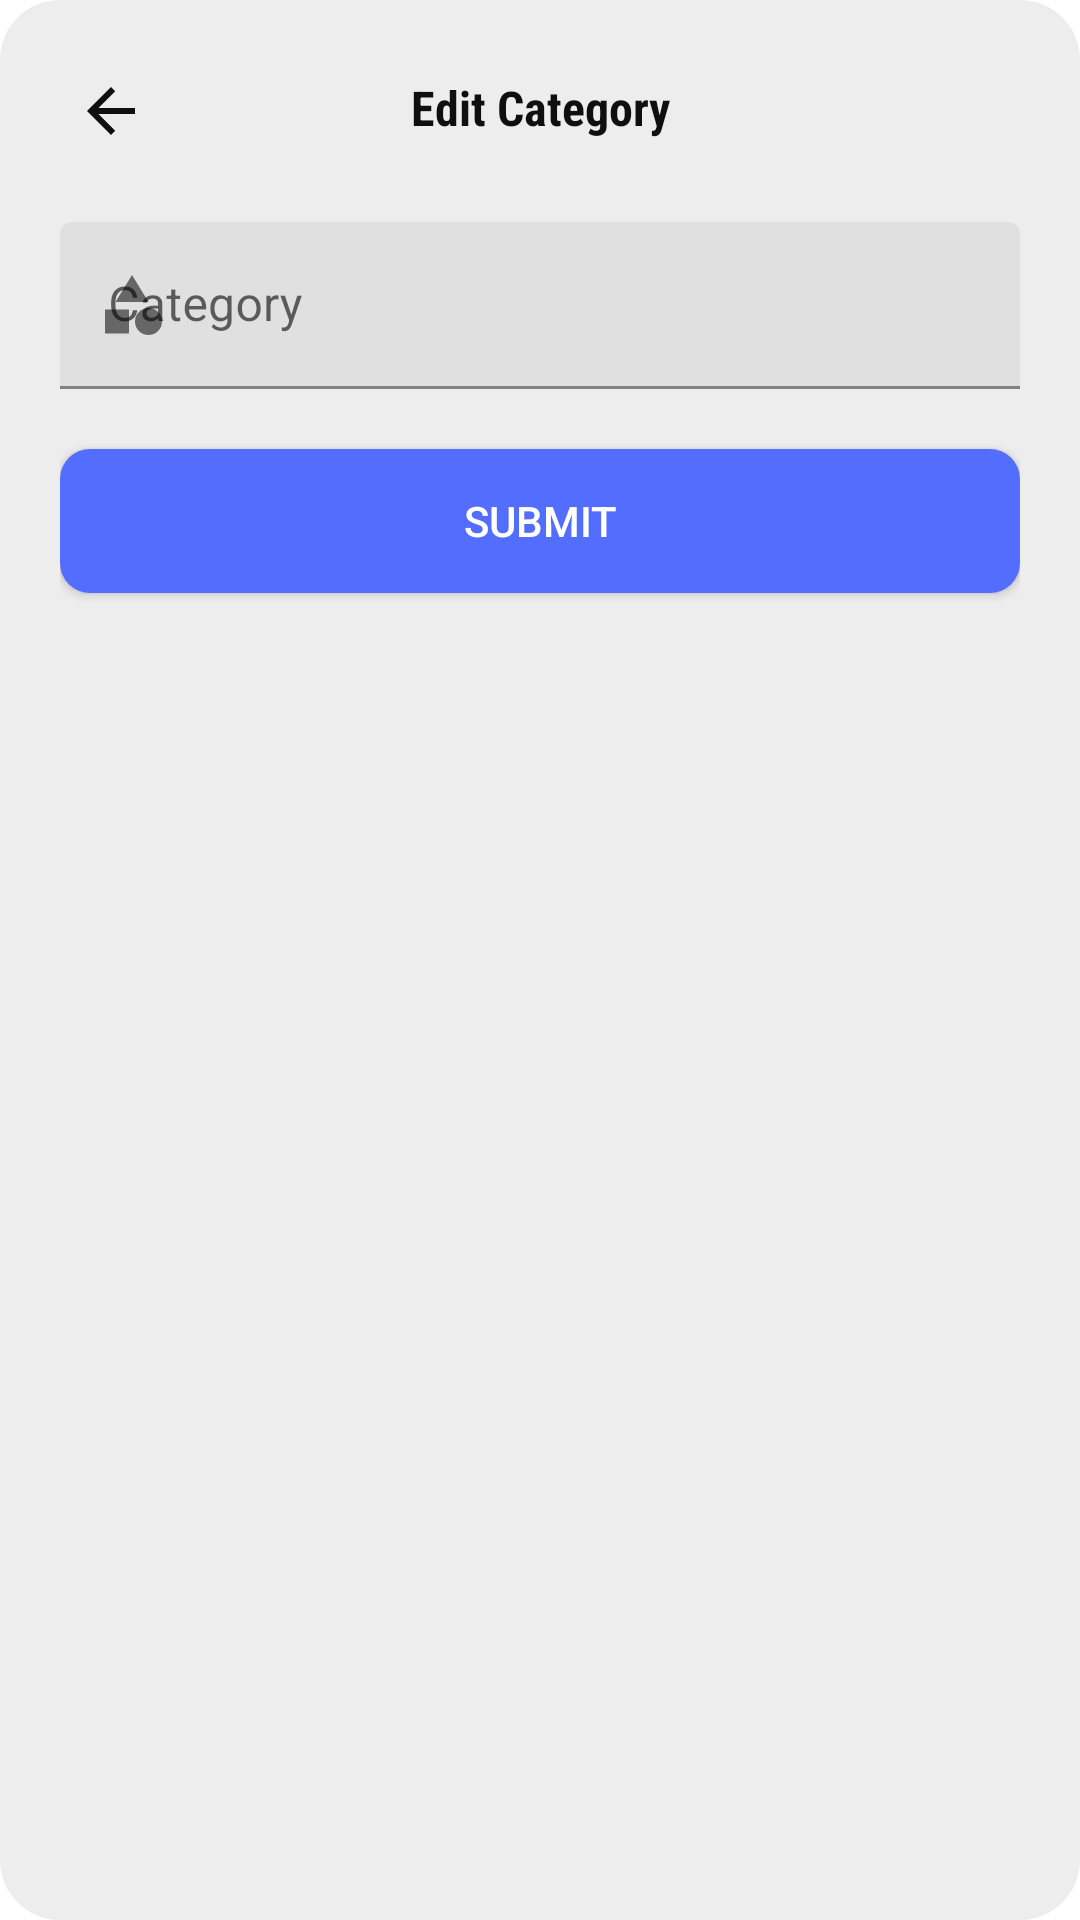

Screen size 1080 × 1920. Icon name, then its box in pixels as (x1, y1, x2, y2):
back: (87, 87, 135, 135)
